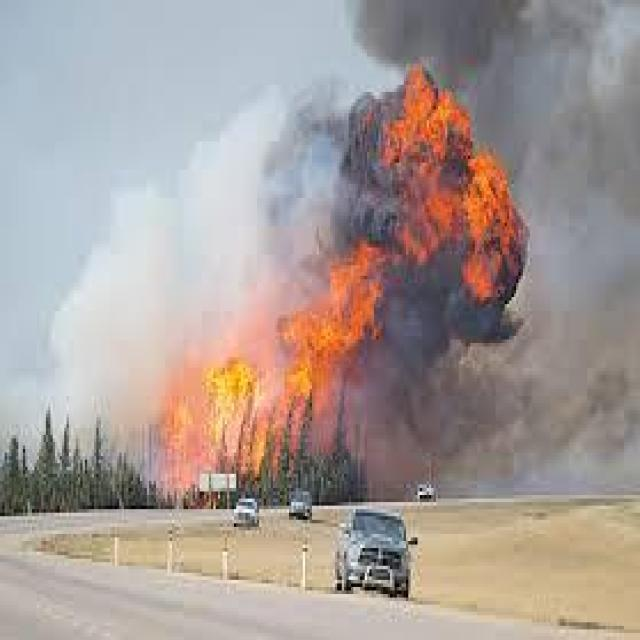fire: (196, 295, 366, 536)
smoke: (102, 36, 629, 292), (426, 291, 640, 516)
